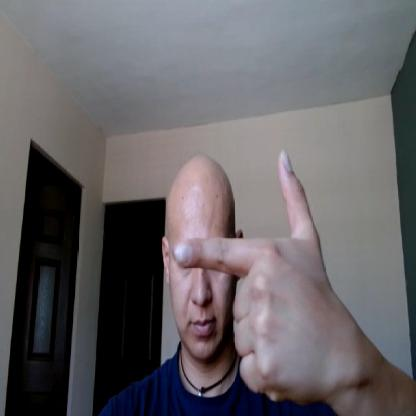G: (173, 145, 332, 403)
